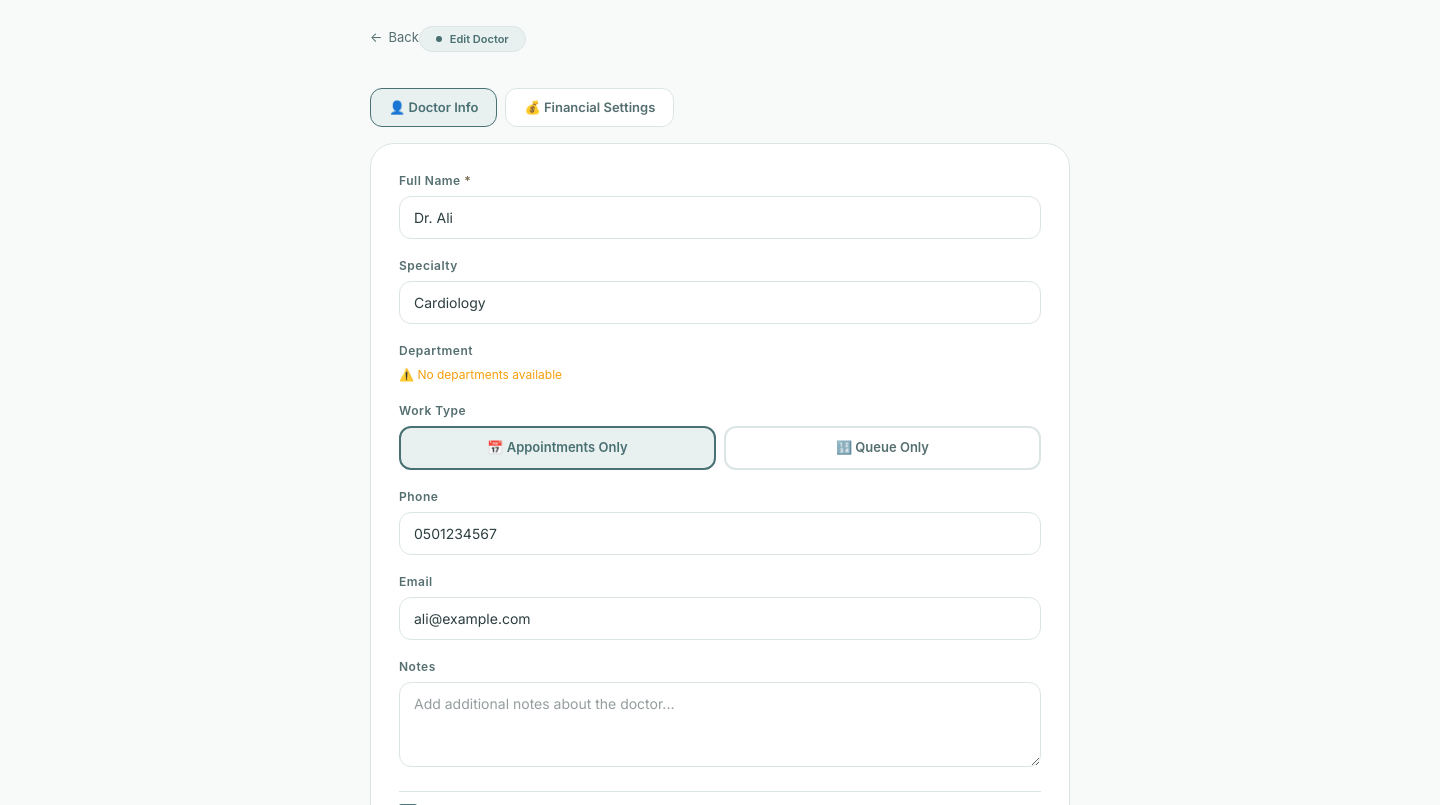
Test: EditDoctor › requires selecting a template before saving an exception
Expected: the field showing "Dr. Ali" is shown, [399, 196, 1041, 239]
Click the button "💰 Financial Settings" at (590, 107), box [505, 88, 674, 127]
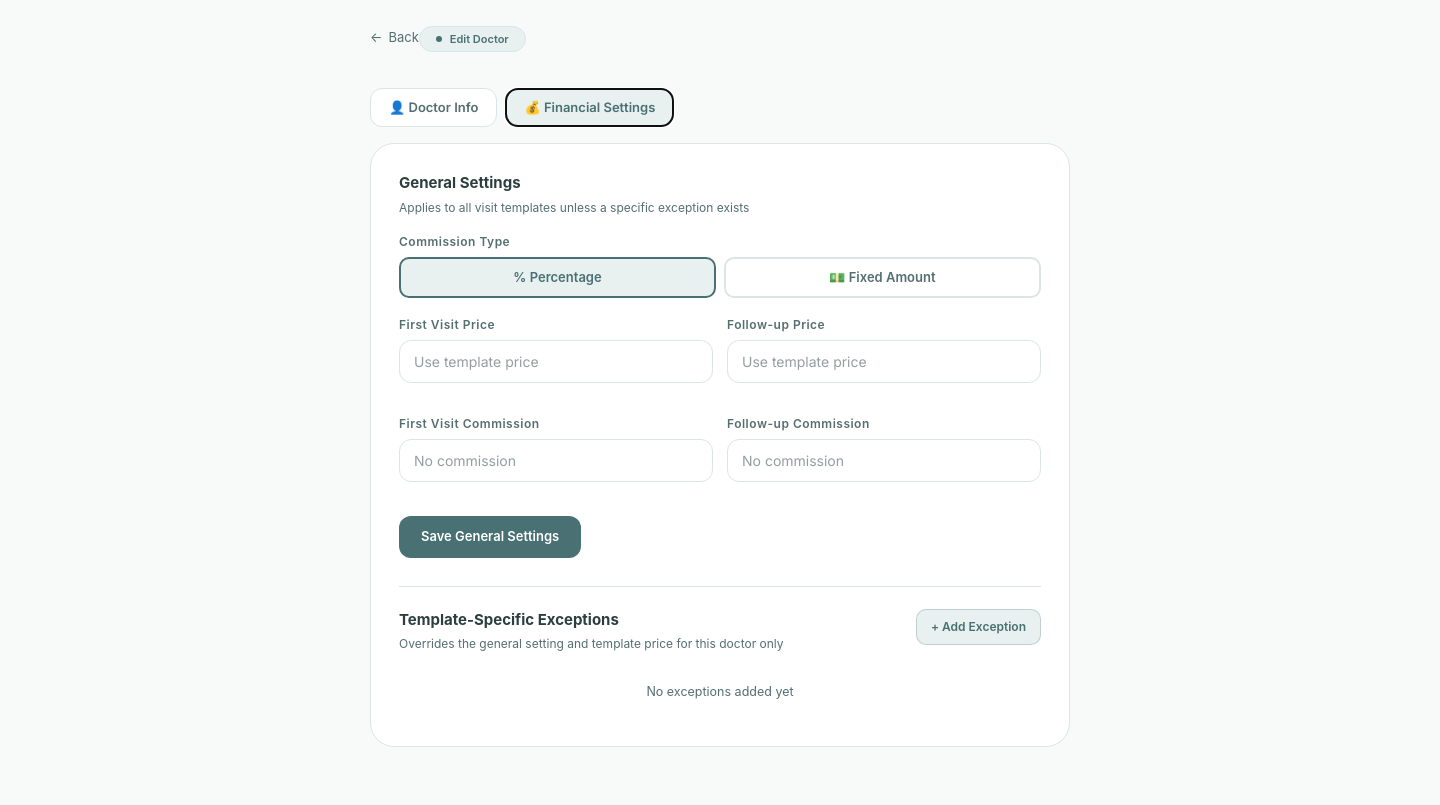
Now the heading "Template-Specific Exceptions" is shown, box [399, 610, 619, 628]
Click the button "+ Add Exception" at (978, 626), box [916, 608, 1041, 644]
(page scrolled)
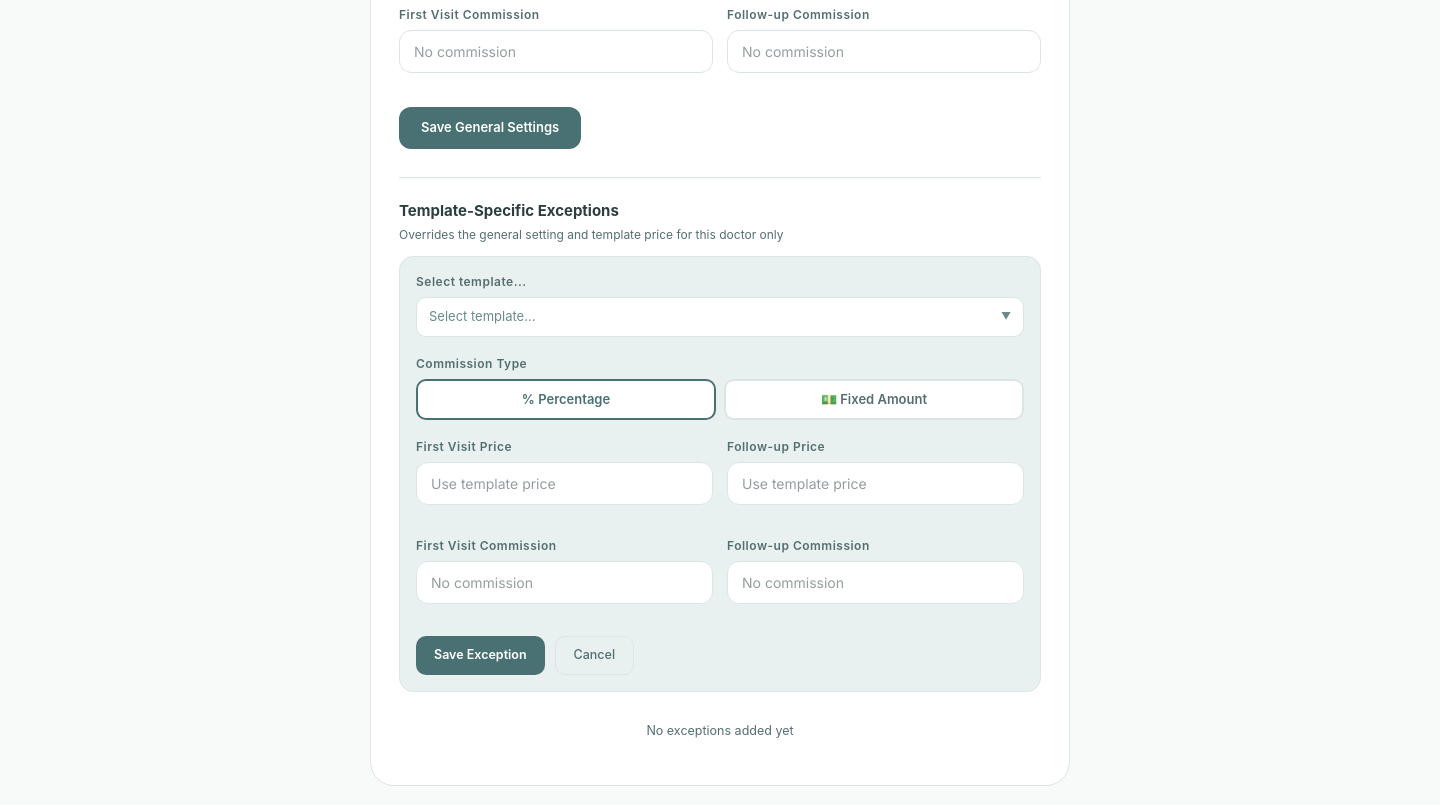
Click the button "Save Exception" at (480, 655), box [416, 636, 545, 675]
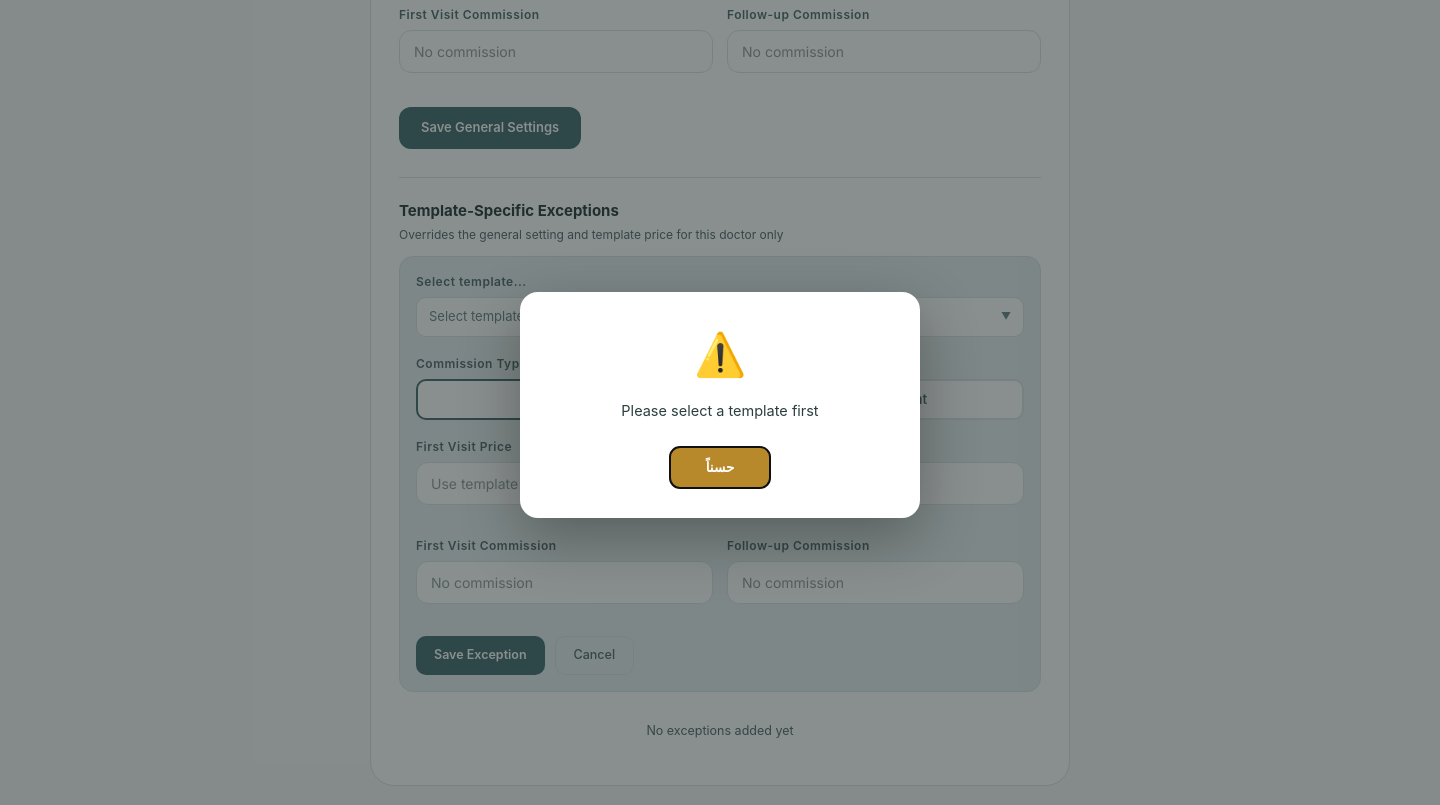
Now the text "Please select a template first" is shown, box [621, 402, 819, 419]
